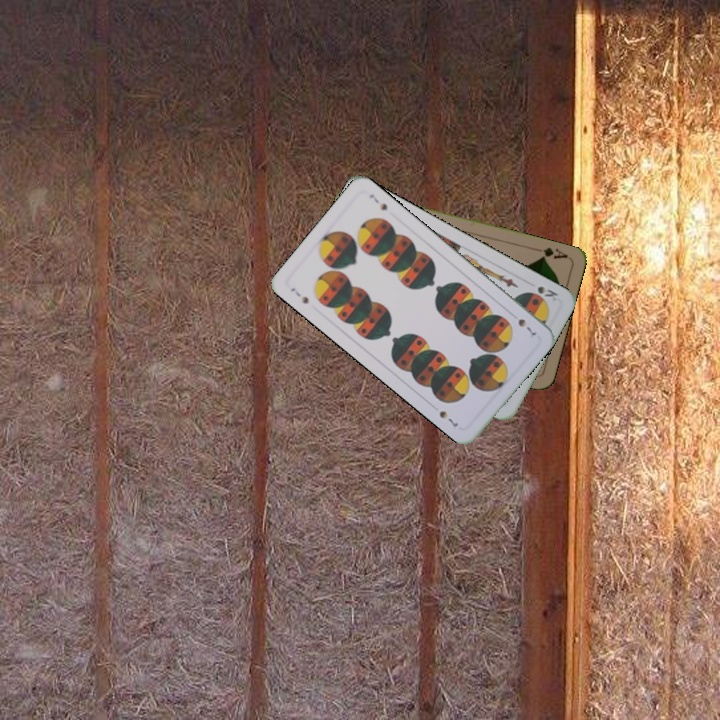GA: (531, 243, 570, 262)
S7: (514, 315, 539, 338), (286, 283, 311, 306)
SK: (526, 282, 561, 303)
